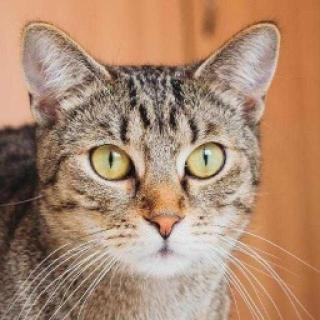cat: (21, 20, 291, 279)
nose: (138, 194, 188, 241)
